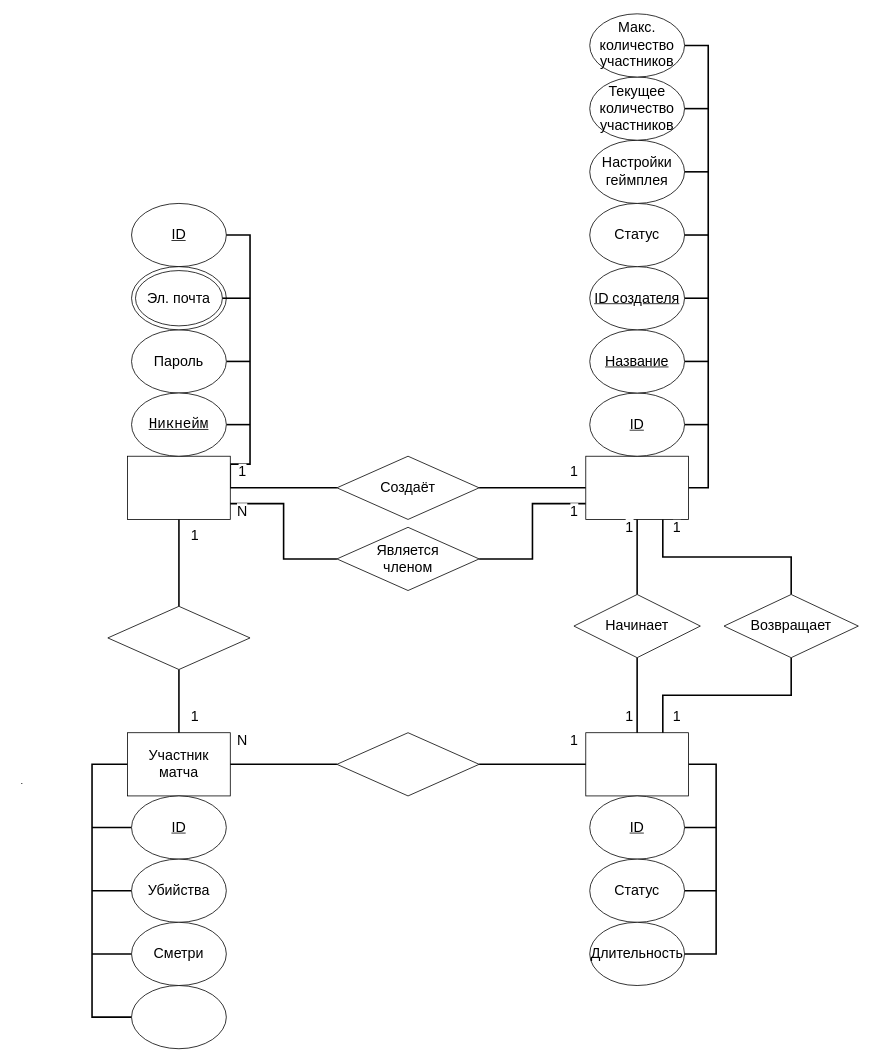
Image size: 872x1063. Some labels were removed from this diagram. Here are the shapes that lost their labels. From the top down, the centre of each, then its label:
At point 178,487: "Пользователь".
At point 636,487: "Лобби".
At point 178,638: "Становится".
At point 407,764: "Принимает участие".
At point 636,764: "Матч".
At point 178,1017: "Счёт".
